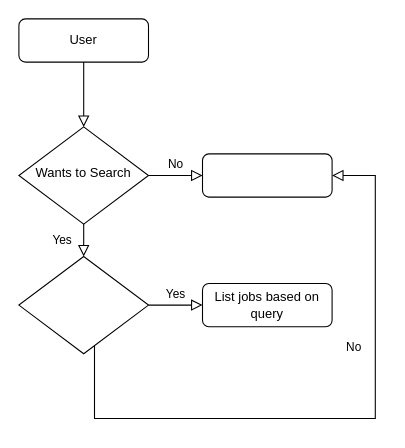
This 405x448 diagram has some shape labels left out. The box of each missing label's shape, as (x1, y1, x2, y2) in pixels:
By Search Panel: (18, 255, 148, 354)
Jobs in Profile: (201, 153, 332, 197)
